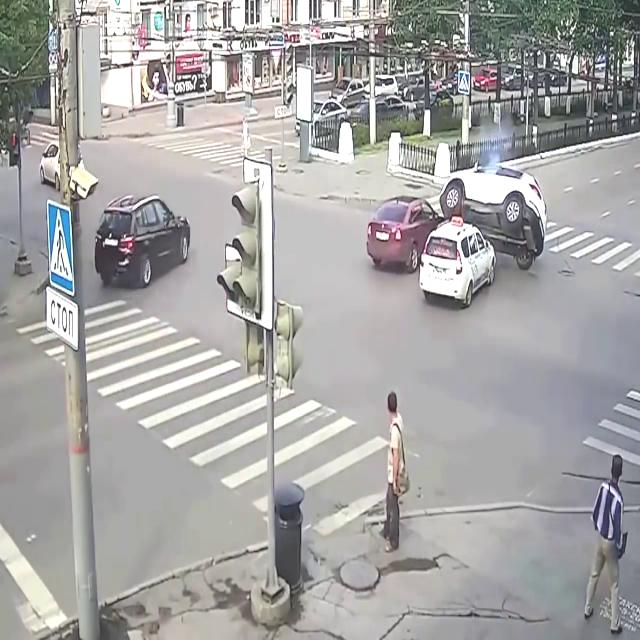accident: (365, 155, 549, 311)
non-accident: (294, 96, 410, 140), (398, 76, 454, 122), (328, 74, 399, 110), (473, 63, 527, 93)
